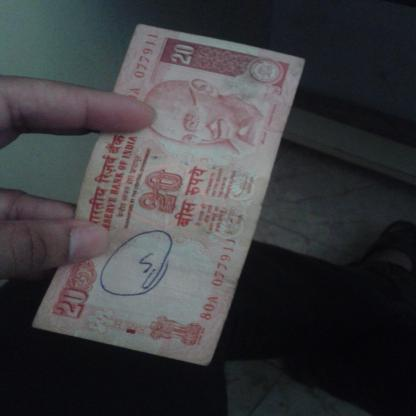Old20Front: (33, 22, 305, 366)
